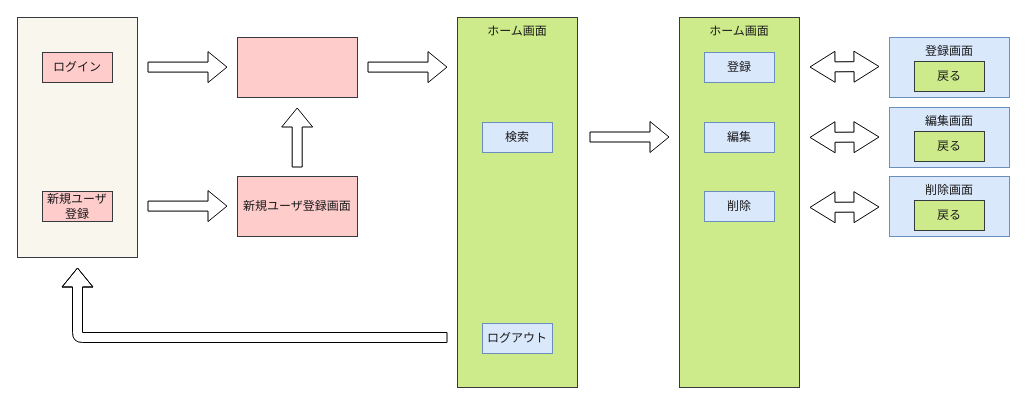
This 1027x405 diagram has some shape labels left out. The box of each missing label's shape, as (x1, y1, x2, y2) in pixels:
Welcomeページ: (16, 16, 138, 258)
ログイン画面: (236, 36, 358, 98)
